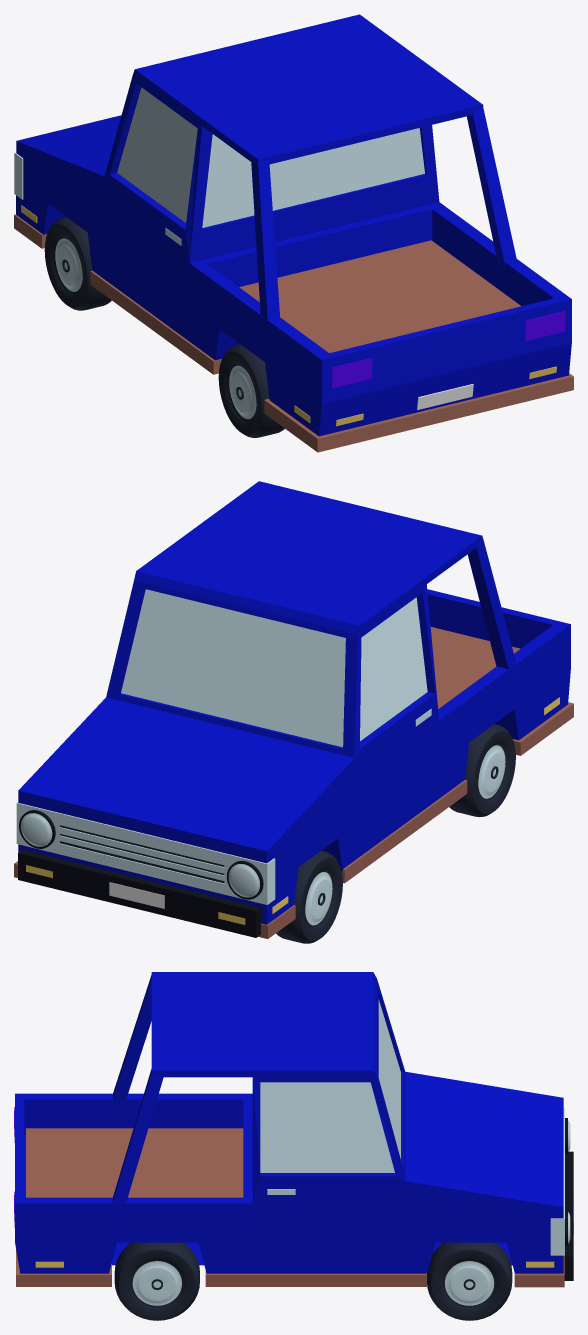
File: carA.obj
3 views of the same model, one above another, from view 1: azimuth 30°, elevation 25°; view 2: azimuth 150°, elevation 25°; view 3: azimuth 270°, elevation 25° (orthographic). The views are drawn at different scales.
Parts seen in each view (by area): view 1: carA; view 2: carA; view 3: carA.
Part boxes in pixels (left/top/right/bottom): carA: left=14, top=14, right=573, bottom=452; carA: left=14, top=481, right=573, bottom=943; carA: left=14, top=972, right=573, bottom=1320.
Size of the model in its own units: 1.39 by 1.41 by 2.9.
